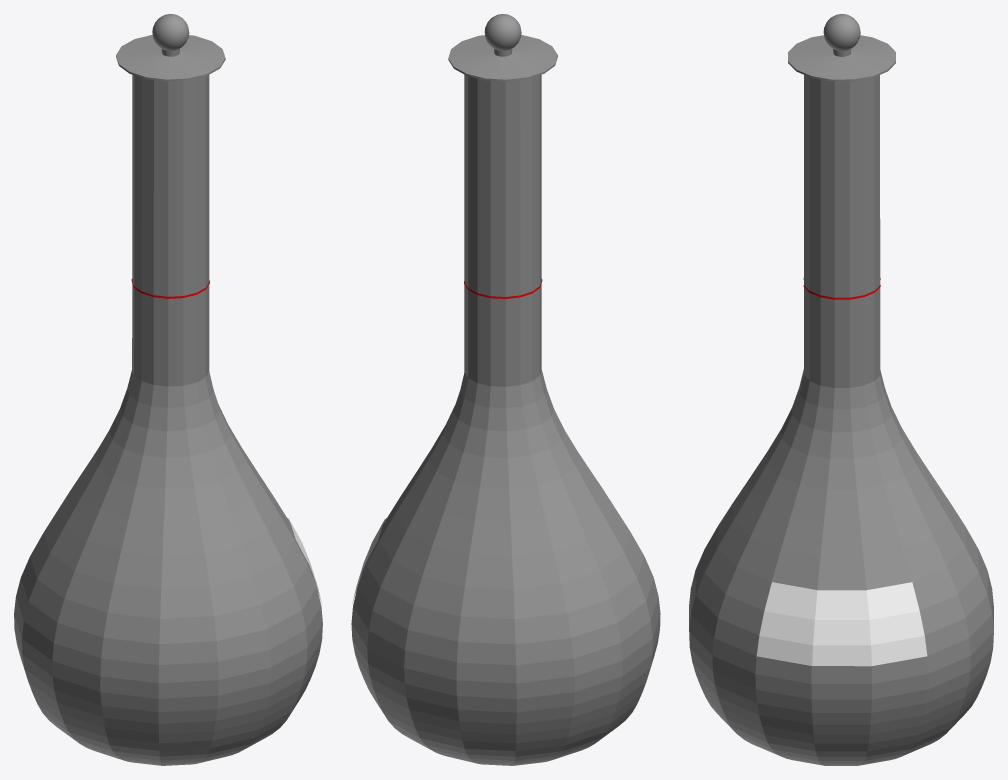
Rendered from SM_容量瓶.FBX.
3 renders of one model, left to right at view 1: azimuth 30°, elevation 25°; view 2: azimuth 150°, elevation 25°; view 3: azimuth 270°, elevation 25°, orthographic.
Parts seen in each view (by area): view 1: SM_容量瓶_瓶体, SM_容量瓶_瓶塞; view 2: SM_容量瓶_瓶体, SM_容量瓶_瓶塞; view 3: SM_容量瓶_瓶体, SM_容量瓶_瓶塞.
Part boxes in pixels (<box>): SM_容量瓶_瓶体: <box>14,74,322,765</box>; SM_容量瓶_瓶塞: <box>116,14,225,81</box>; SM_容量瓶_瓶体: <box>351,74,660,765</box>; SM_容量瓶_瓶塞: <box>448,14,557,81</box>; SM_容量瓶_瓶体: <box>689,75,993,765</box>; SM_容量瓶_瓶塞: <box>788,14,895,81</box>.
Size of the model in its own units: 73.89 by 196 by 73.89.
